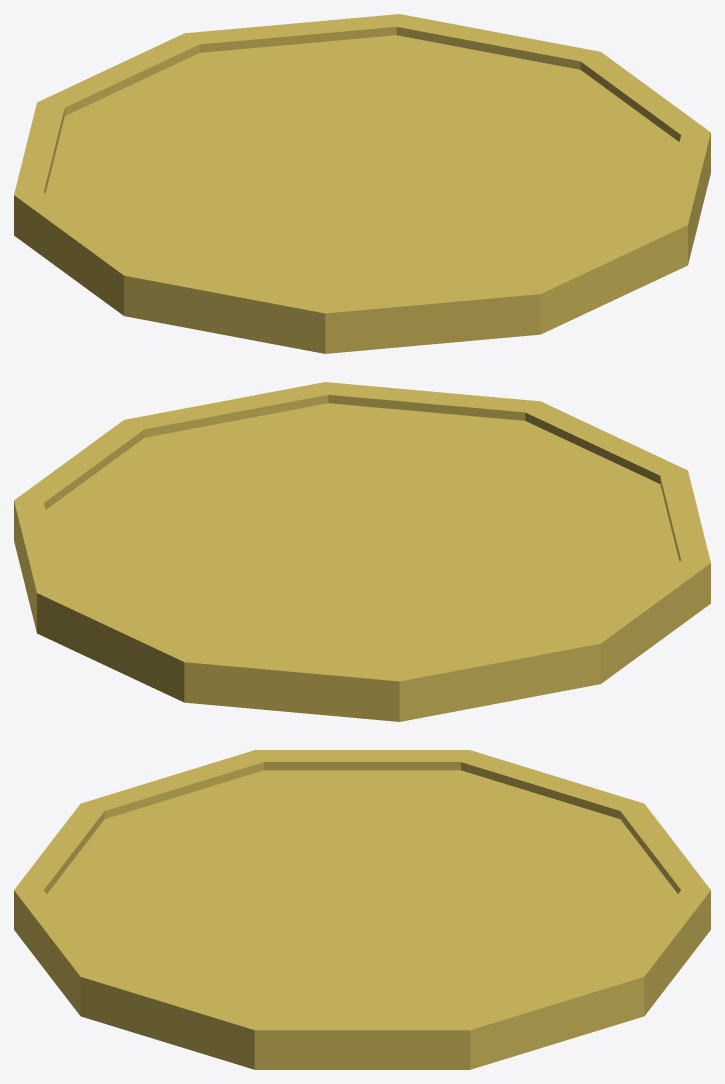
The model's file is CoinModel.fbx.
3 renders of one model, top to bottom at view 1: azimuth 30°, elevation 25°; view 2: azimuth 150°, elevation 25°; view 3: azimuth 270°, elevation 25°, orthographic. The views are drawn at different scales.
Parts seen in each view (by area): view 1: Cylinder; view 2: Cylinder; view 3: Cylinder.
Part boxes in pixels (left/top/right/bottom): Cylinder: left=14, top=14, right=710, bottom=353; Cylinder: left=14, top=382, right=710, bottom=721; Cylinder: left=14, top=750, right=710, bottom=1069.
Size of the model in its own units: 219 by 14.43 by 230.
